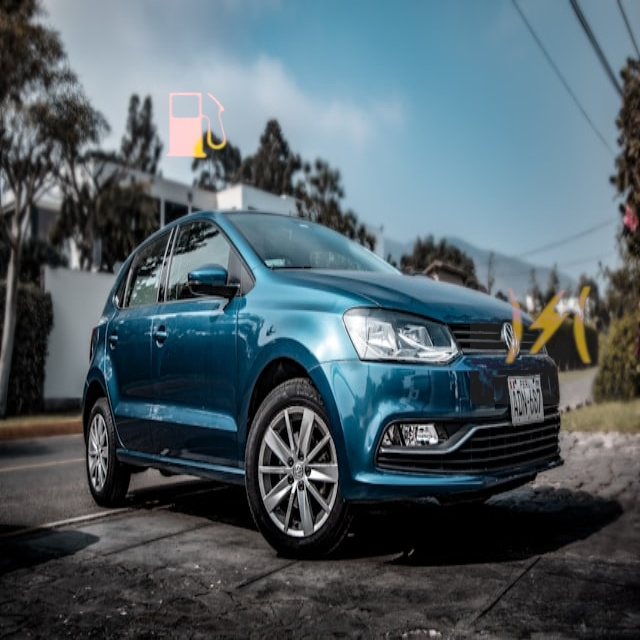symbol: (470, 247, 627, 404), (130, 60, 261, 191)
